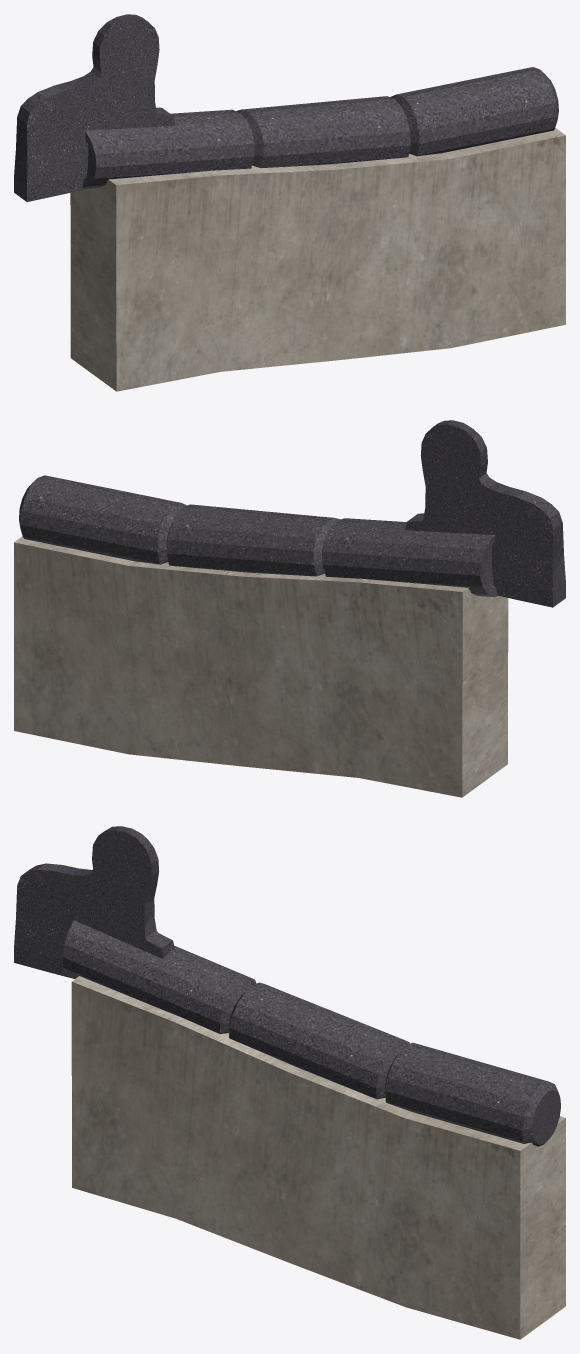
The model's file is SM_R_CornerBeam_2.fbx.
The picture shows the model from 3 angles, top to bottom: view 1: azimuth 30°, elevation 25°; view 2: azimuth 150°, elevation 25°; view 3: azimuth 330°, elevation 25°; orthographic projection.
Parts seen in each view (by area): view 1: SM_R_CornerBeam_2; view 2: SM_R_CornerBeam_2; view 3: SM_R_CornerBeam_2.
Part boxes in pixels (left/top/right/bottom): SM_R_CornerBeam_2: left=14, top=14, right=565, bottom=391; SM_R_CornerBeam_2: left=14, top=420, right=565, bottom=797; SM_R_CornerBeam_2: left=14, top=826, right=565, bottom=1339.
Size of the model in its own units: 314 by 47.25 by 224.
2 materials, 2 textured.
